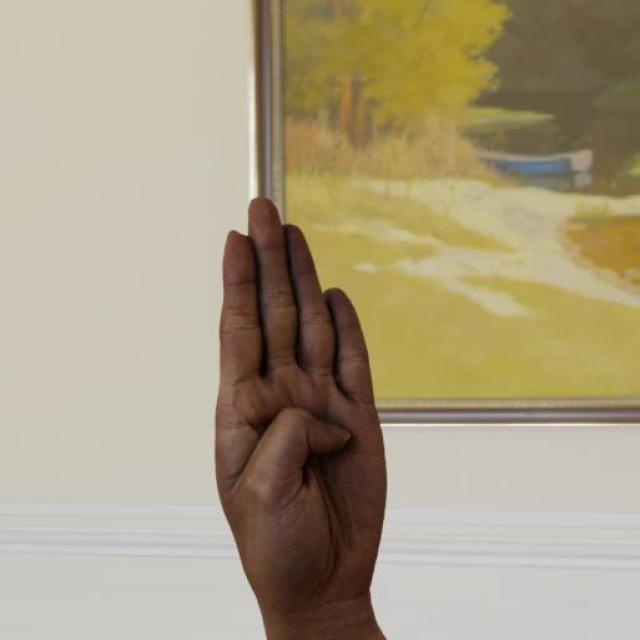B: (211, 194, 390, 595)
